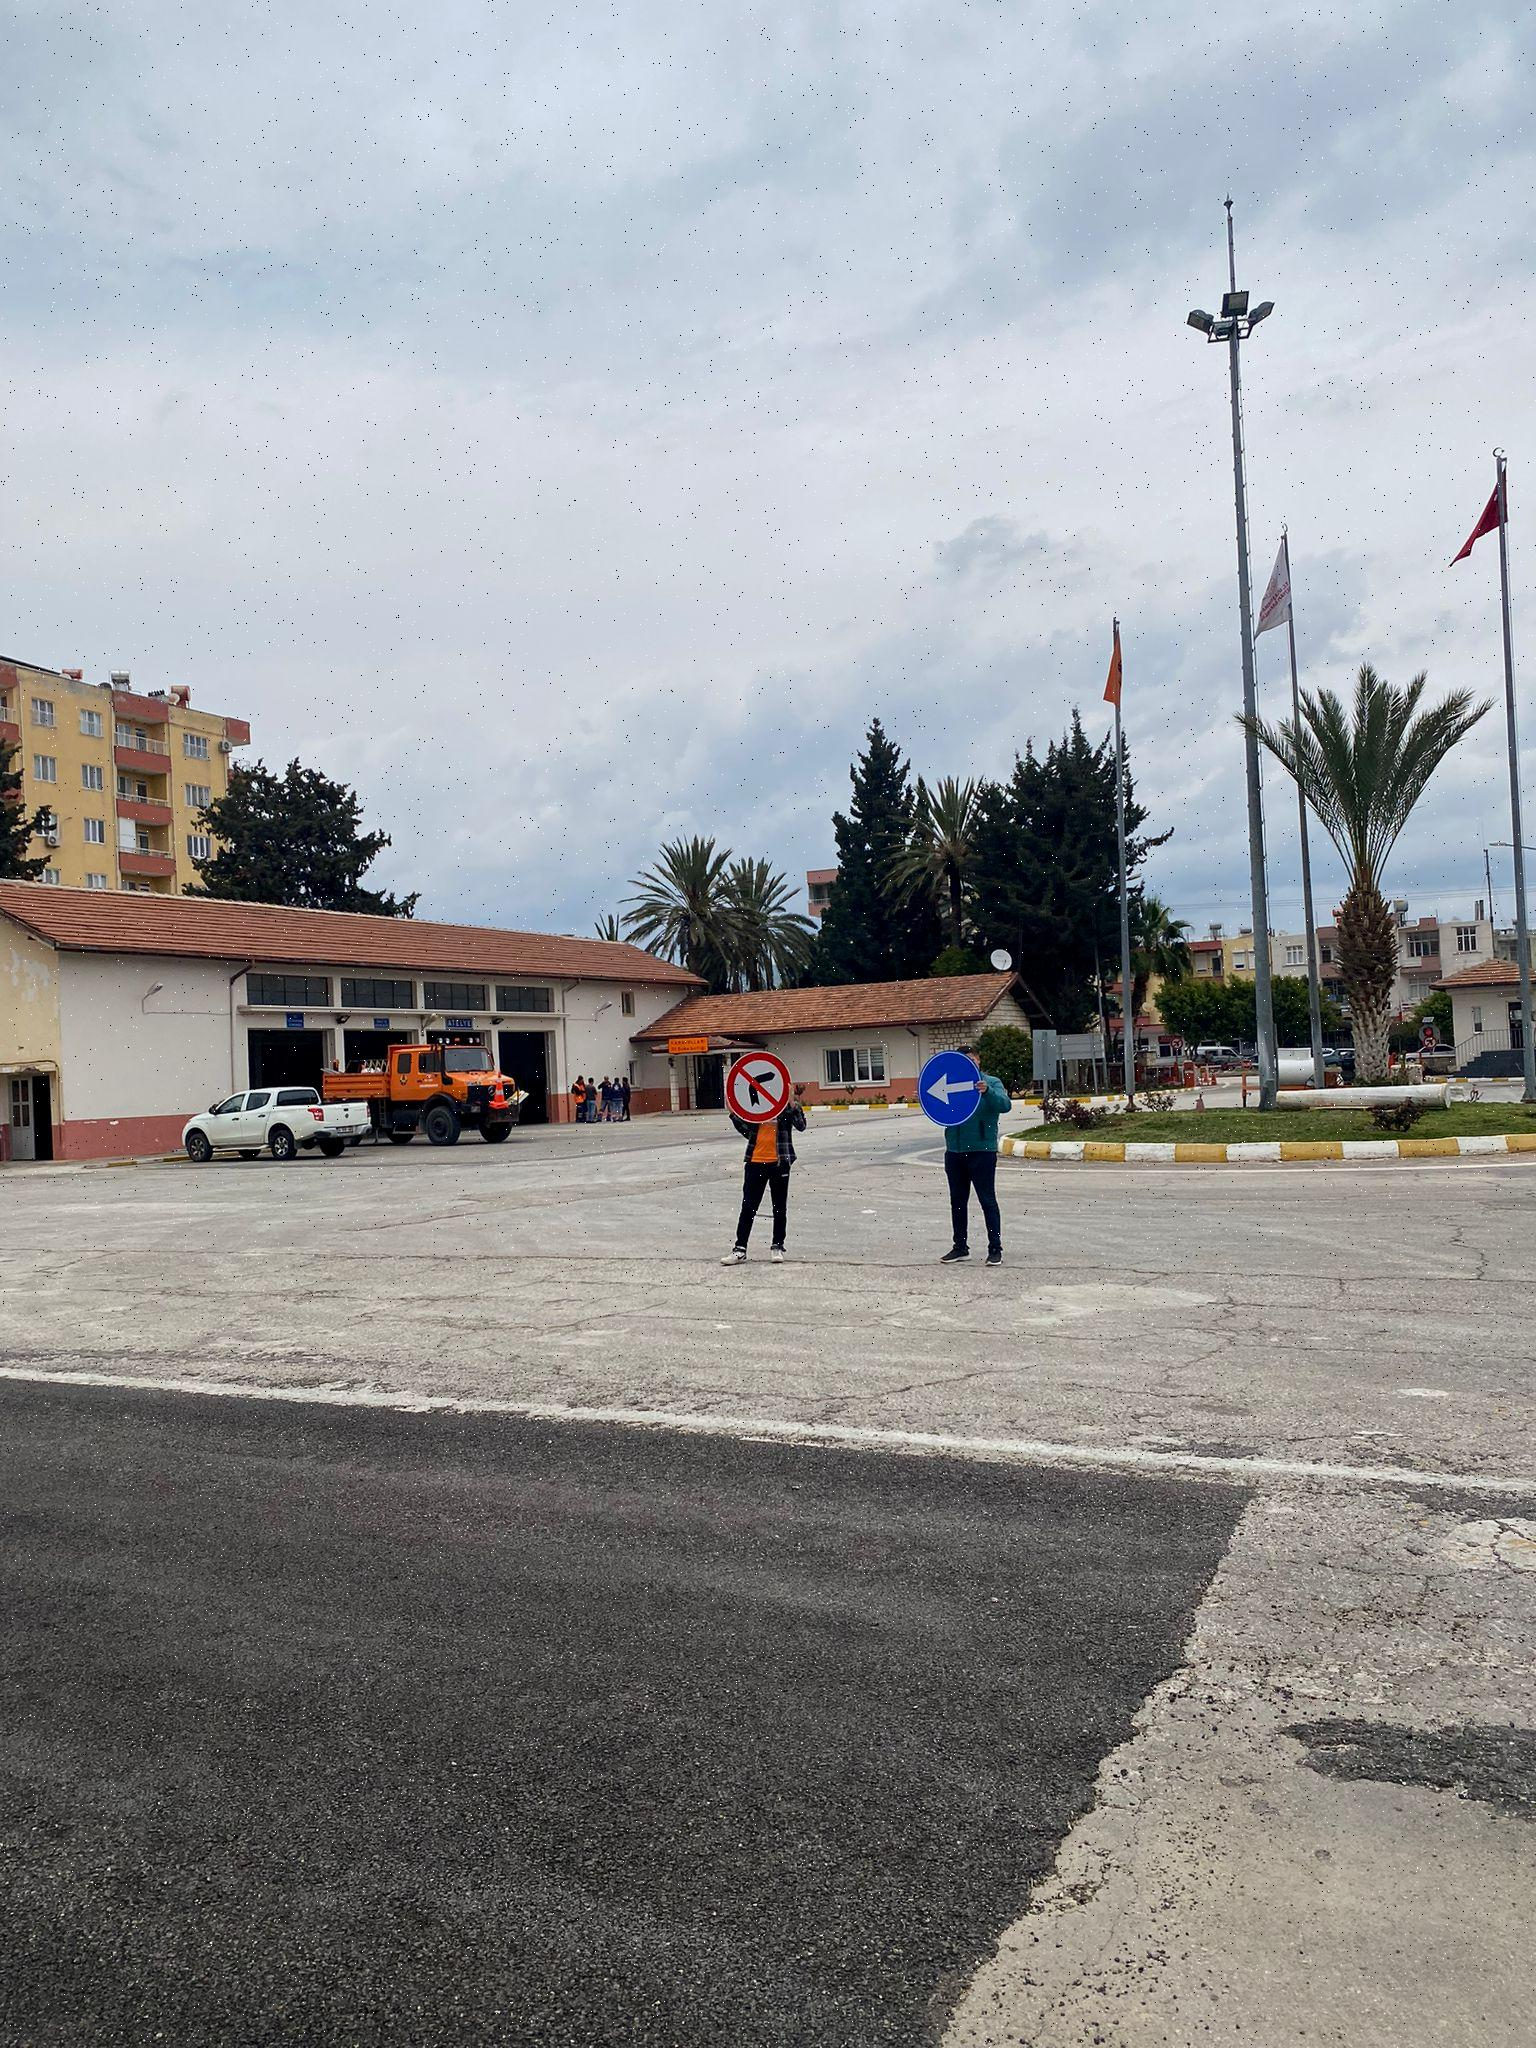rightturnsareforbidden: (724, 1050, 792, 1122)
turnleft: (920, 1051, 981, 1124)
